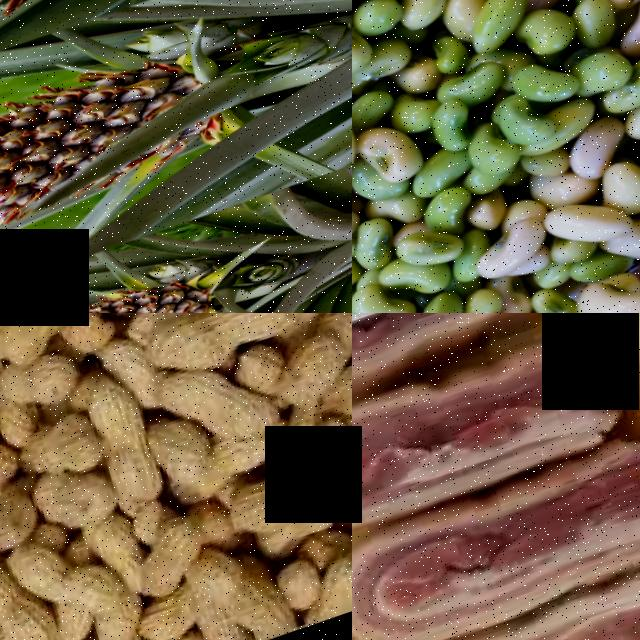peanuts: (78, 377, 173, 522), (216, 449, 348, 552), (156, 358, 279, 462), (137, 313, 300, 387), (128, 511, 217, 602), (13, 412, 104, 488), (0, 347, 87, 422), (0, 313, 84, 370), (318, 320, 352, 433), (79, 606, 158, 640), (0, 539, 26, 632)
peas: (352, 0, 640, 313)
pineapple: (0, 36, 226, 288), (0, 0, 335, 94), (0, 266, 220, 313)
pork belly: (352, 322, 639, 550), (352, 436, 640, 640), (352, 313, 601, 428), (352, 559, 640, 640)
